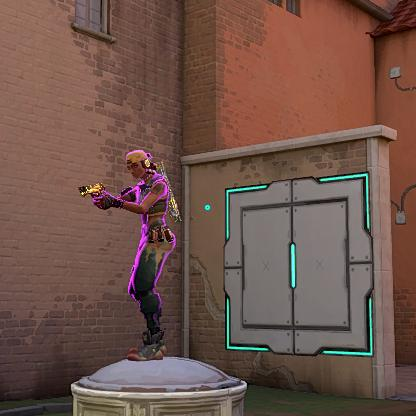enemyBody: (144, 183, 166, 215)
enemyHead: (126, 156, 148, 177)
